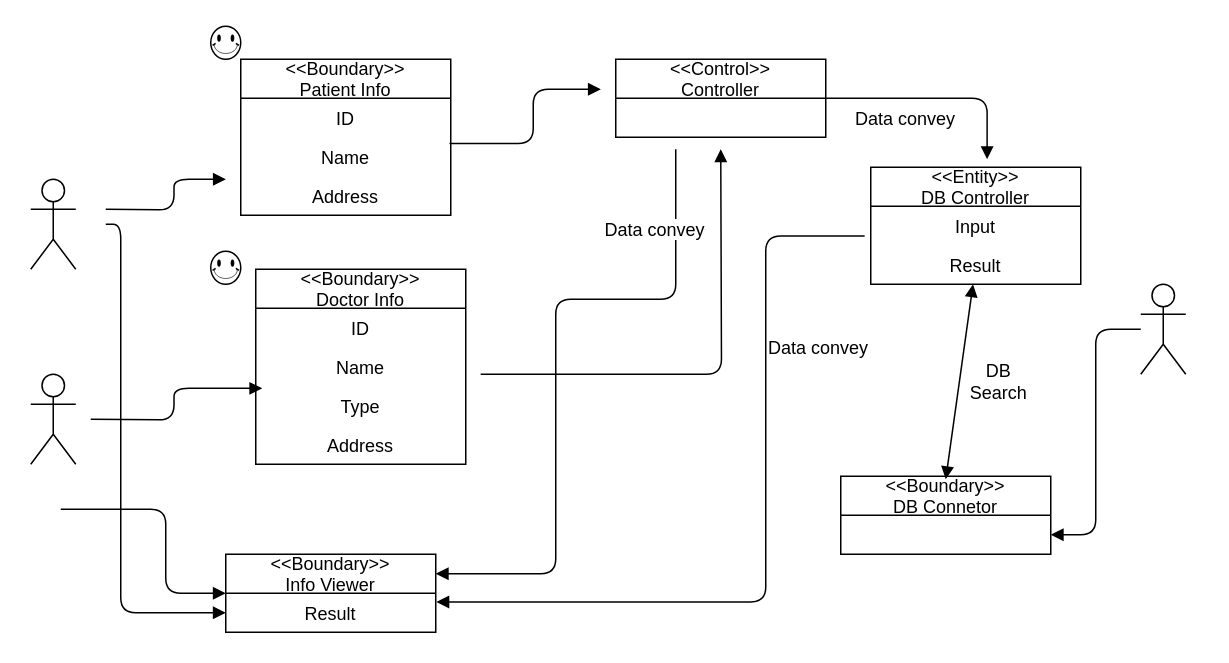
Image size: 1229x663. Some labels were removed from this diagram. Each missing label, with the centre of its shape:
"DataBase" goes at pixel 1162 328.
"Doctor" goes at pixel 52 418.
"Patient" goes at pixel 52 223.
